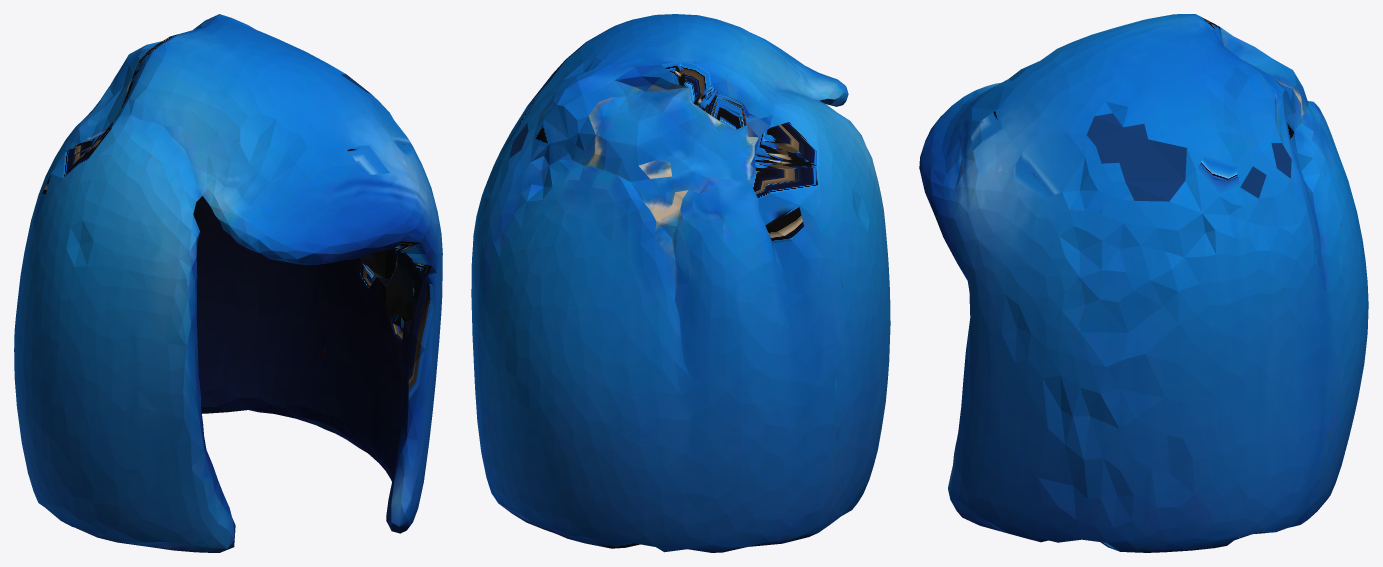
The model's file is hairstyle_026.glb.
3 renders of one model, left to right at view 1: azimuth 30°, elevation 25°; view 2: azimuth 150°, elevation 25°; view 3: azimuth 270°, elevation 25°, orthographic.
Parts seen in each view (by area): view 1: geometry_0_026; view 2: geometry_0_026; view 3: geometry_0_026.
Boxes of the visible parts, <box> form: geometry_0_026: <box>14,14,442,552</box>; geometry_0_026: <box>471,14,890,552</box>; geometry_0_026: <box>919,14,1368,552</box>.
Size of the model in its own units: 1.24 by 1.45 by 1.31.
Materials: 1 (1 with a texture image).
